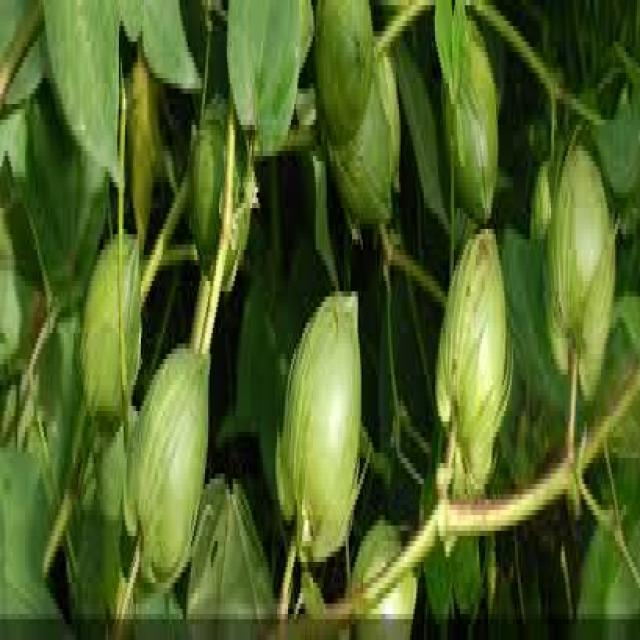Early Boll: (272, 276, 366, 568), (118, 331, 216, 583), (544, 125, 618, 409), (434, 218, 511, 488), (183, 94, 263, 296), (437, 16, 505, 234), (78, 215, 140, 425), (329, 85, 393, 239), (351, 501, 421, 639), (317, 0, 376, 152), (532, 149, 558, 238)
